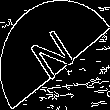N_SE: (27, 22, 83, 88)
